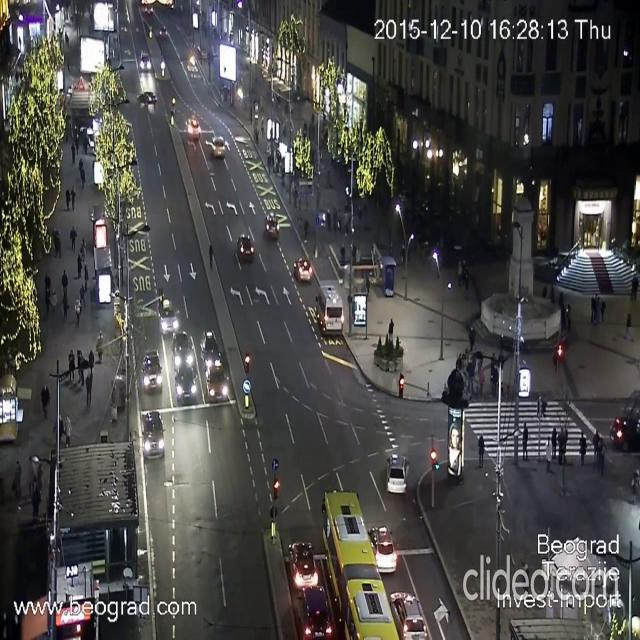bus: (322, 489, 399, 639), (610, 389, 640, 456), (315, 285, 346, 331)
car: (392, 593, 422, 640), (370, 523, 396, 576), (142, 405, 166, 457), (173, 360, 204, 400), (193, 329, 223, 370), (202, 364, 230, 399), (385, 454, 409, 494), (138, 351, 159, 389), (154, 297, 177, 329), (172, 338, 194, 362), (236, 234, 254, 262), (293, 257, 312, 283), (264, 212, 280, 240), (185, 116, 203, 140), (213, 132, 225, 164), (134, 87, 158, 103), (138, 46, 150, 74), (157, 21, 170, 40)
